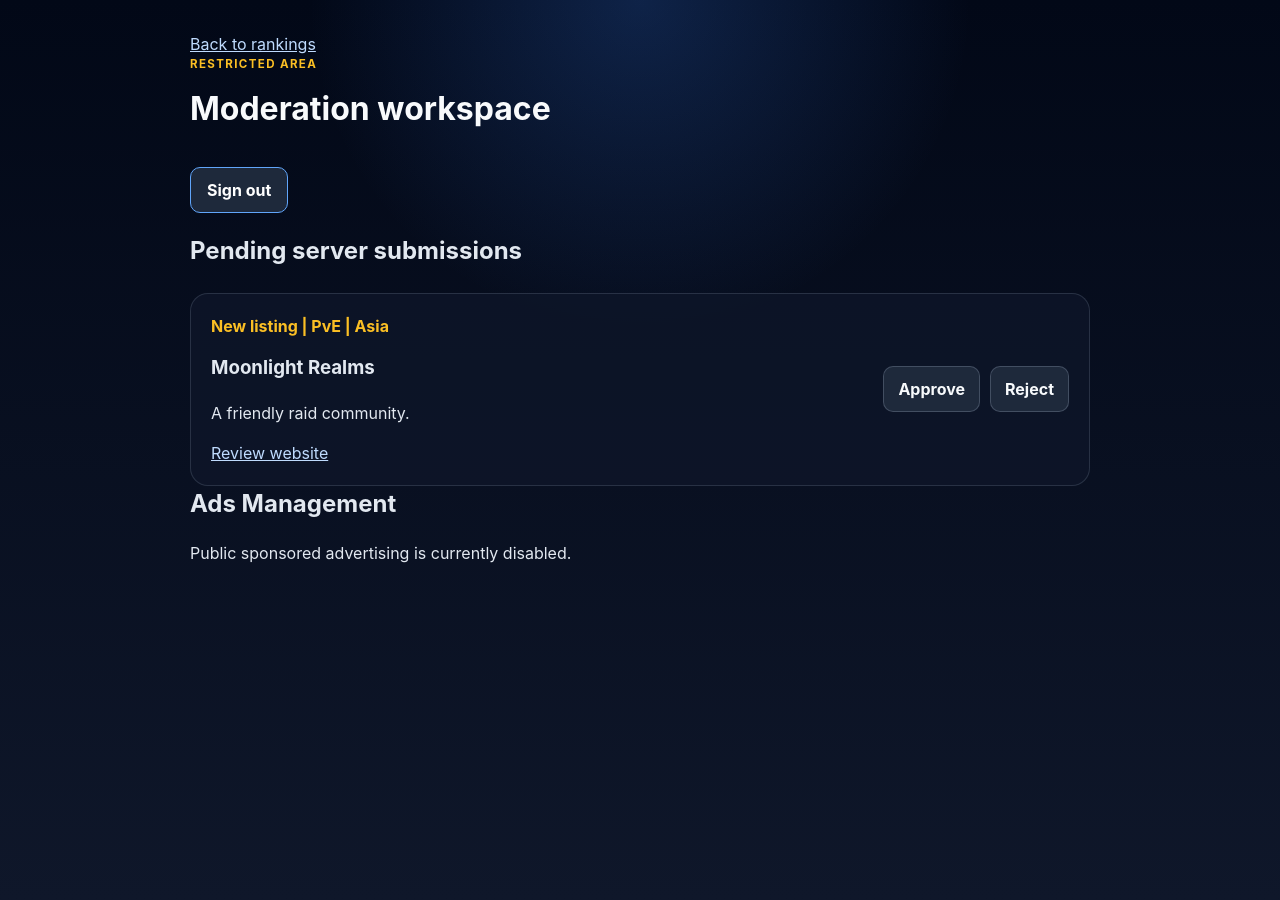
Test: AdminPage › allows an authorized moderator to approve a pending submission
Expected: the heading "Moonlight Realms" is shown, [211,356,375,379]
Click the button with aria-label "Approve Moonlight Realms" at coordinates (932, 389), box [883,366,980,412]
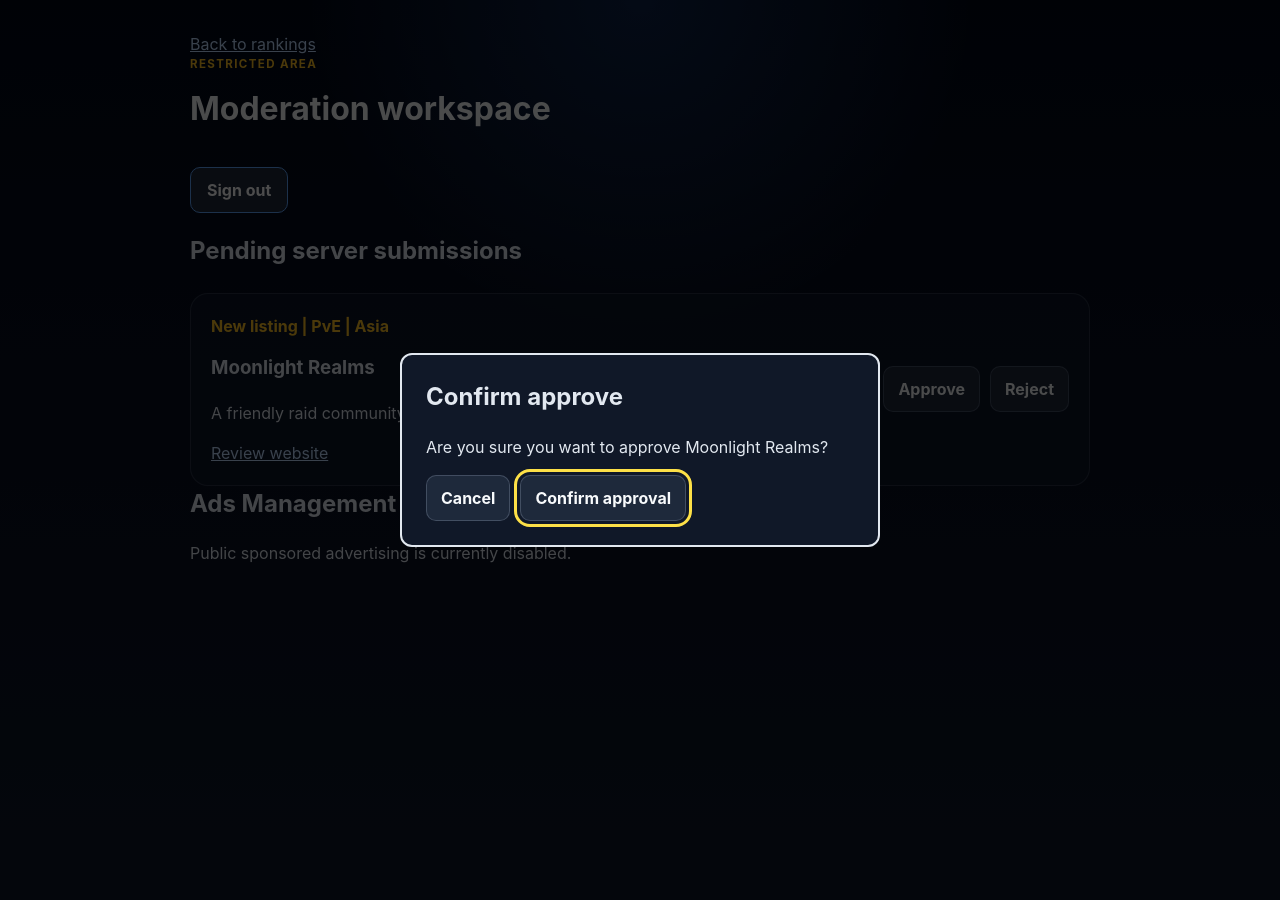
Result: the dialog "Confirm approve" is shown at [400,353,880,547]
Click the button "Confirm approval" at coordinates (603, 498), box [520,475,686,521]
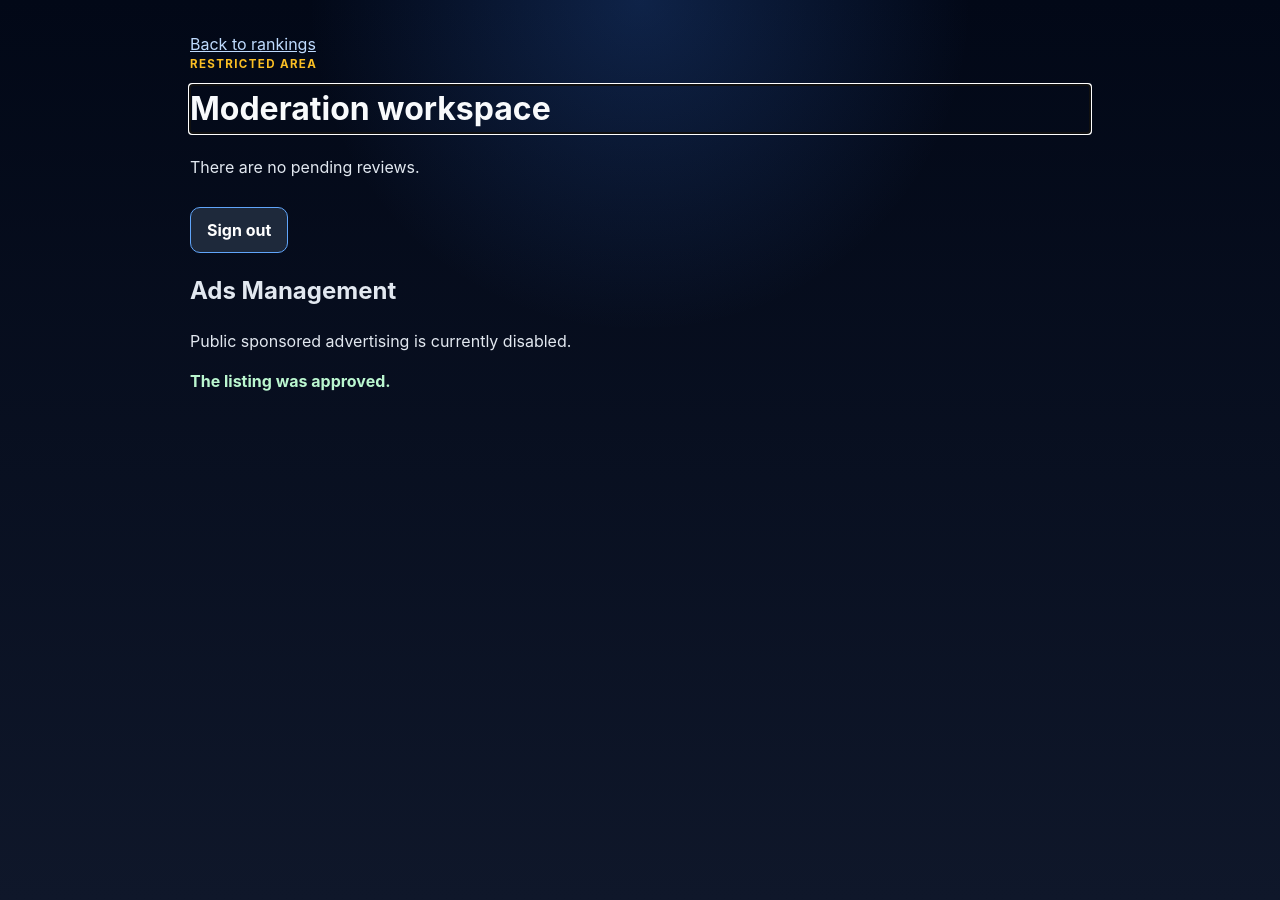
Result: the text "The listing was approved." is shown at [190,371,391,391]
Result: the heading "Moonlight Realms" is gone
